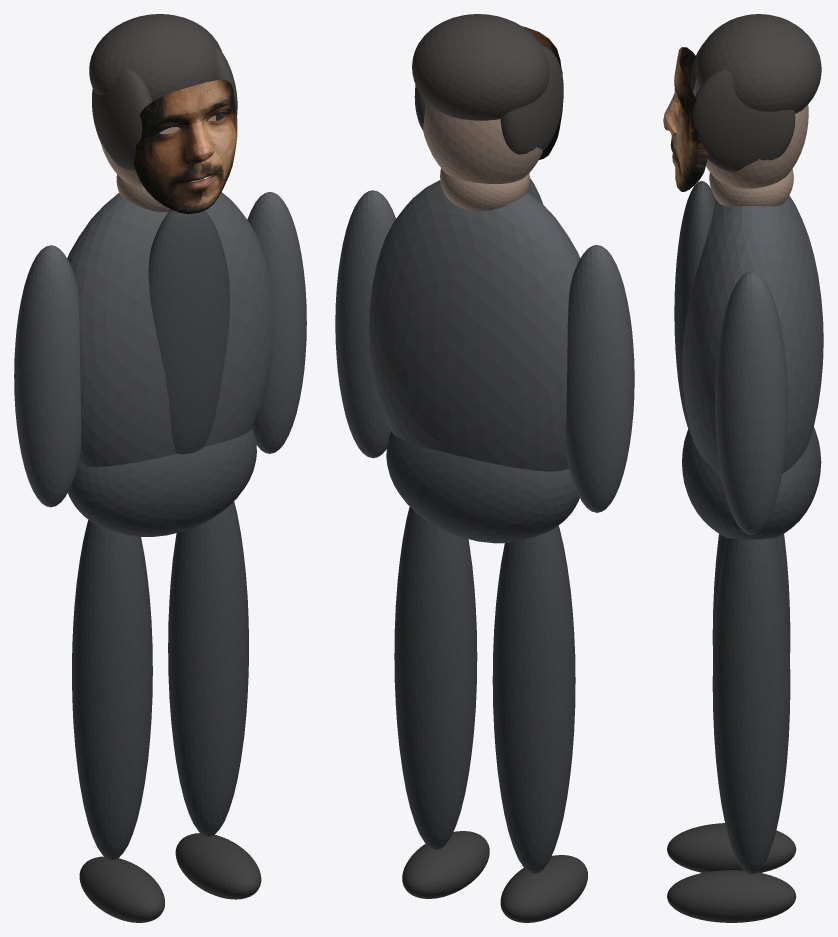
Rendered from character-reference-draft.glb.
3 renders of one model, left to right at view 1: azimuth 30°, elevation 25°; view 2: azimuth 150°, elevation 25°; view 3: azimuth 270°, elevation 25°, orthographic. The views are drawn at different scales.
Visible parts, largest first — view 1: jacket, left_leg, right_leg, shirt, left_arm, hips, reference_face_approximate, right_arm, hair_top, right_shoe, left_shoe, left_hair (+1 smaller); view 2: jacket, left_leg, right_leg, left_arm, hips, hair_top, right_arm, head_support, left_shoe, right_shoe, left_hair, neck; view 3: right_leg, jacket, right_arm, hair_top, right_hair, hips, right_shoe, shirt, reference_face_approximate, left_shoe, head_support, neck (+1 smaller).
Boxes of the visible parts, x1=… form: jacket: x1=67, y1=192, x2=273, y2=467; left_leg: x1=72, y1=520, x2=152, y2=860; right_leg: x1=168, y1=501, x2=248, y2=836; shirt: x1=148, y1=209, x2=229, y2=454; left_arm: x1=14, y1=245, x2=81, y2=507; hips: x1=68, y1=427, x2=256, y2=536; reference_face_approximate: x1=134, y1=80, x2=237, y2=214; right_arm: x1=247, y1=192, x2=306, y2=453; hair_top: x1=89, y1=14, x2=221, y2=100; right_shoe: x1=175, y1=833, x2=261, y2=899; left_shoe: x1=79, y1=856, x2=164, y2=922; left_hair: x1=92, y1=69, x2=152, y2=170; jacket: x1=369, y1=180, x2=580, y2=471; left_leg: x1=492, y1=525, x2=575, y2=873; right_leg: x1=394, y1=507, x2=477, y2=849; left_arm: x1=565, y1=245, x2=634, y2=512; hips: x1=386, y1=431, x2=579, y2=543; hair_top: x1=412, y1=14, x2=549, y2=120; right_arm: x1=335, y1=190, x2=395, y2=458; head_support: x1=423, y1=102, x2=542, y2=183; left_shoe: x1=500, y1=855, x2=587, y2=922; right_shoe: x1=402, y1=831, x2=489, y2=898; left_hair: x1=500, y1=45, x2=563, y2=154; neck: x1=440, y1=168, x2=529, y2=211; right_leg: x1=712, y1=537, x2=790, y2=874; jacket: x1=682, y1=195, x2=823, y2=473; right_arm: x1=715, y1=271, x2=787, y2=534; hair_top: x1=696, y1=14, x2=821, y2=113; right_hair: x1=693, y1=69, x2=795, y2=171; hips: x1=682, y1=427, x2=821, y2=539; right_shoe: x1=667, y1=870, x2=796, y2=922; shirt: x1=674, y1=181, x2=715, y2=434; reference_face_approximate: x1=663, y1=47, x2=708, y2=191; left_shoe: x1=667, y1=823, x2=796, y2=872; head_support: x1=693, y1=78, x2=808, y2=188; neck: x1=709, y1=169, x2=793, y2=206.
Bounding box in the file's own units: 0.66 × 1.94 × 0.3224.
1 material, 1 textured.
